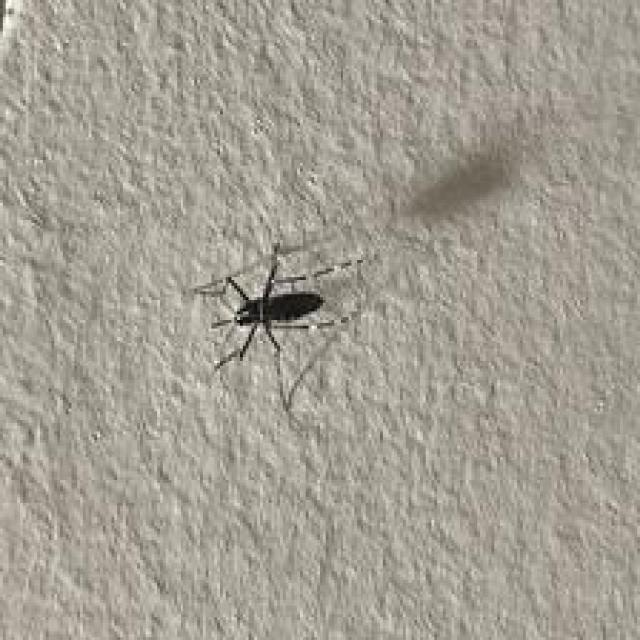Aedes albopictus: (190, 239, 364, 430)
